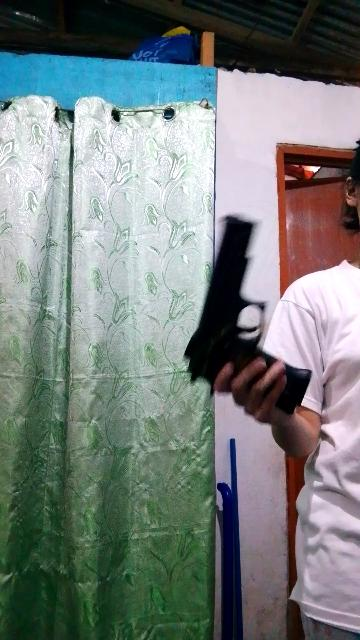pistol: (167, 190, 312, 420)
